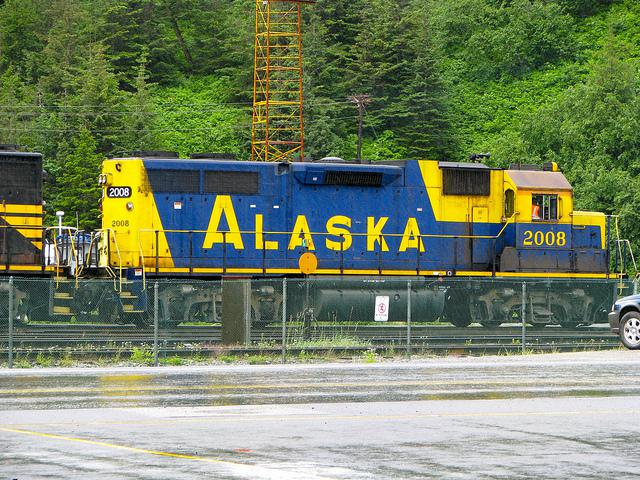Train: (2, 150, 613, 281)
